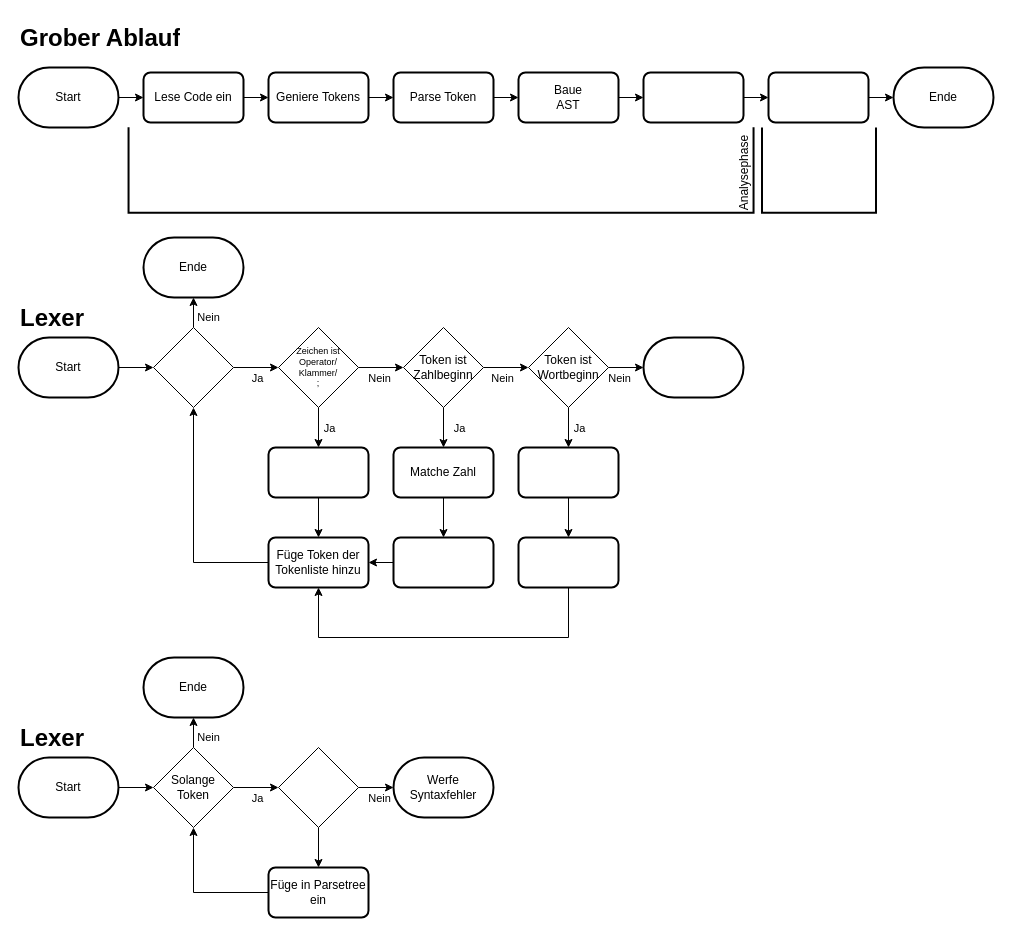
Some shapes in this 1011 by 935 pixel diagram are drawn without their labels. The shapes that lost their labels are listed below. From the top down, each one's centre as x and y in pixels, then its label:
At [693,97]: "Überprüfe Typen".
At [818,97]: "Generiere Assembler".
At [818,169]: "Synthesephase".
At [193,367]: "Solange Zeichen".
At [693,367]: "Werfe Lexer Error".
At [318,472]: "Erstelle Token".
At [568,472]: "Matche Wort".
At [443,562]: "Erstelle Zahl Token".
At [568,562]: "Erstelle Keyword oder Identifier Token".
At [318,787]: "Token folgt Grammatik".
